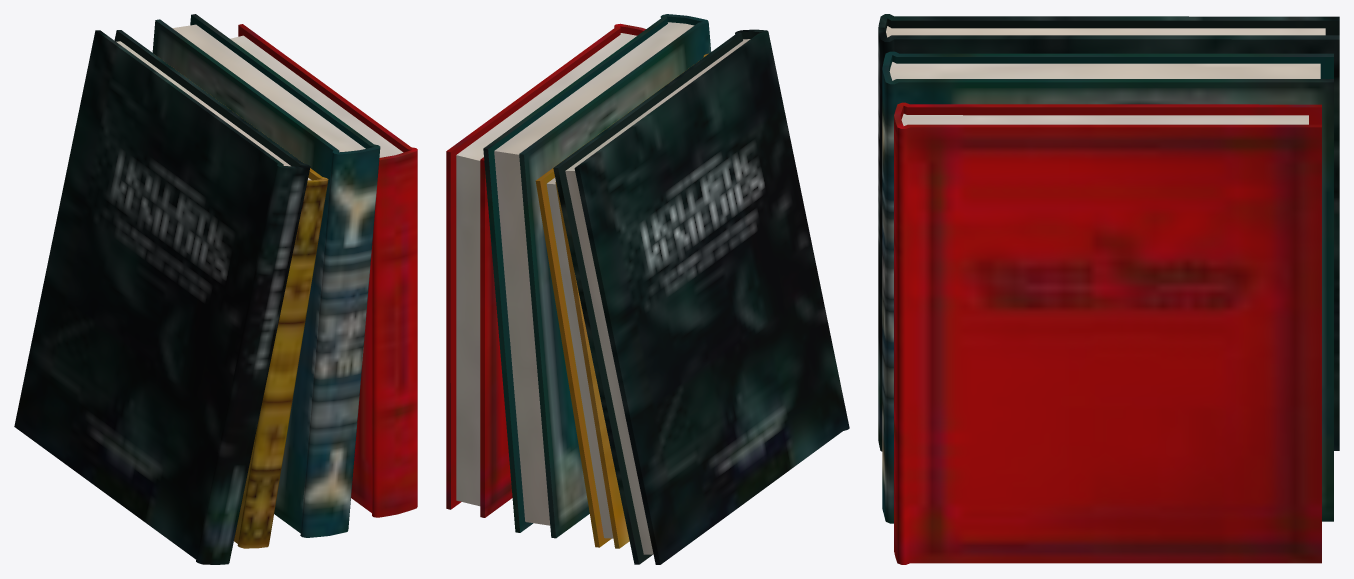
File: cargo_books_e.glb
3 renders of one model, left to right at view 1: azimuth 30°, elevation 25°; view 2: azimuth 150°, elevation 25°; view 3: azimuth 270°, elevation 25°, orthographic. The views are drawn at different scales.
Visible parts, largest first — view 1: KB3D_API_PropBookset_E_Main; view 2: KB3D_API_PropBookset_E_Main; view 3: KB3D_API_PropBookset_E_Main.
Part boxes in pixels (<box>): KB3D_API_PropBookset_E_Main: <box>14,14,417,564</box>; KB3D_API_PropBookset_E_Main: <box>446,14,849,564</box>; KB3D_API_PropBookset_E_Main: <box>878,14,1339,564</box>.
Size of the model in its own units: 0.1467 by 0.2374 by 0.2117.
Materials: 1 (1 with a texture image).
